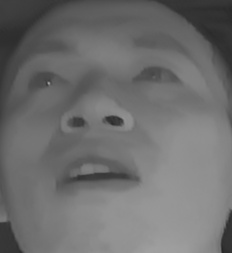eye: (128, 58, 187, 93), (24, 66, 72, 97)
mouth: (50, 146, 145, 201)
